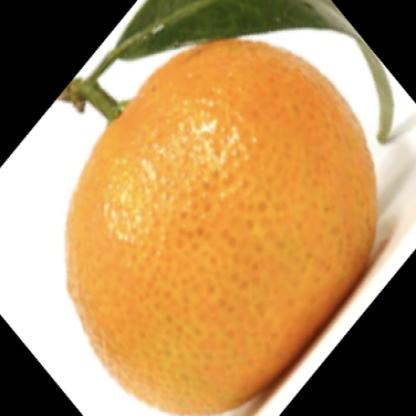fresh: (65, 36, 379, 416)
